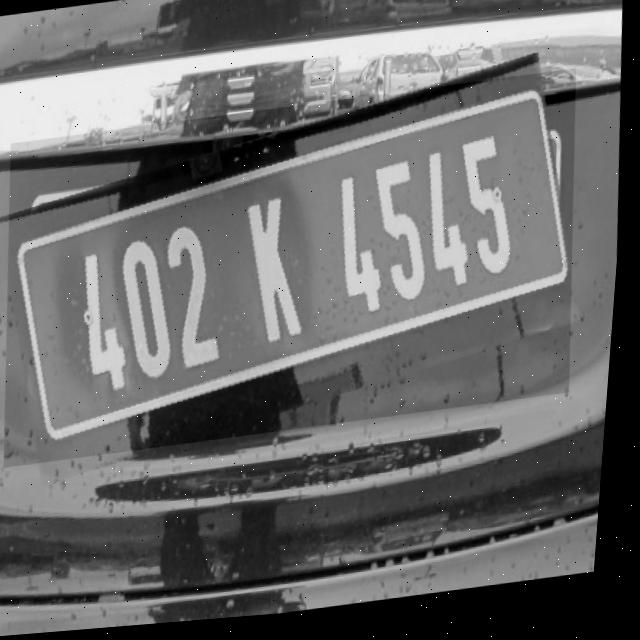LicensePlate: (0, 78, 595, 470)
